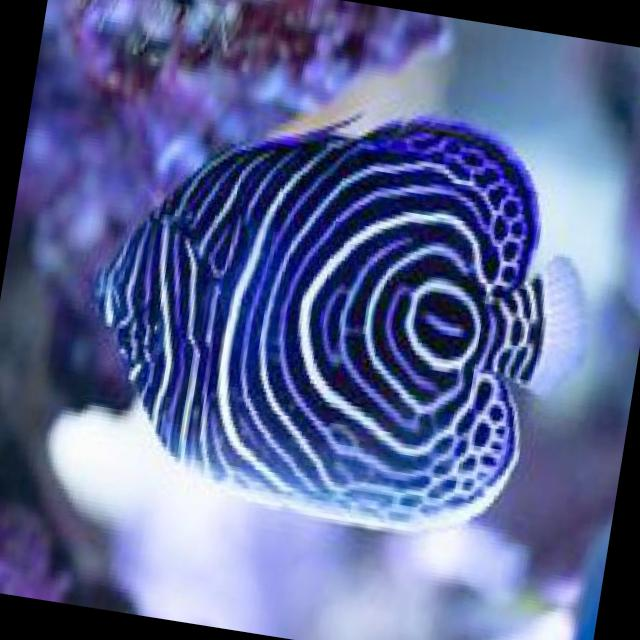AngelFish: (54, 68, 617, 554)
